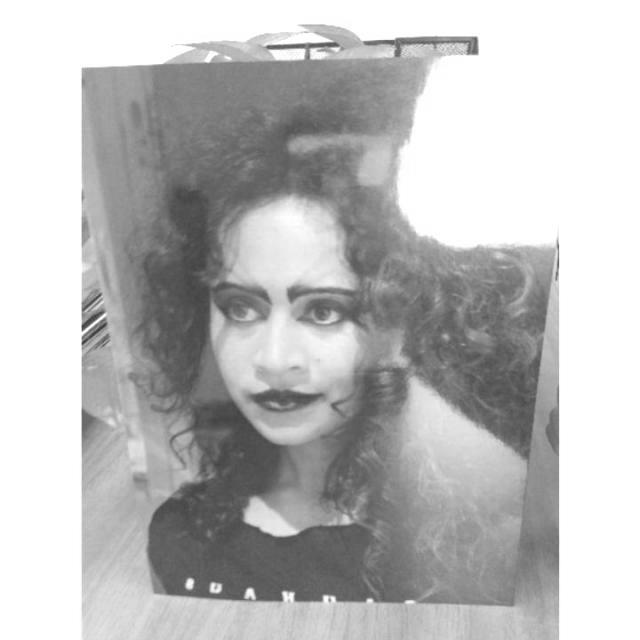fake: (81, 53, 558, 612)
